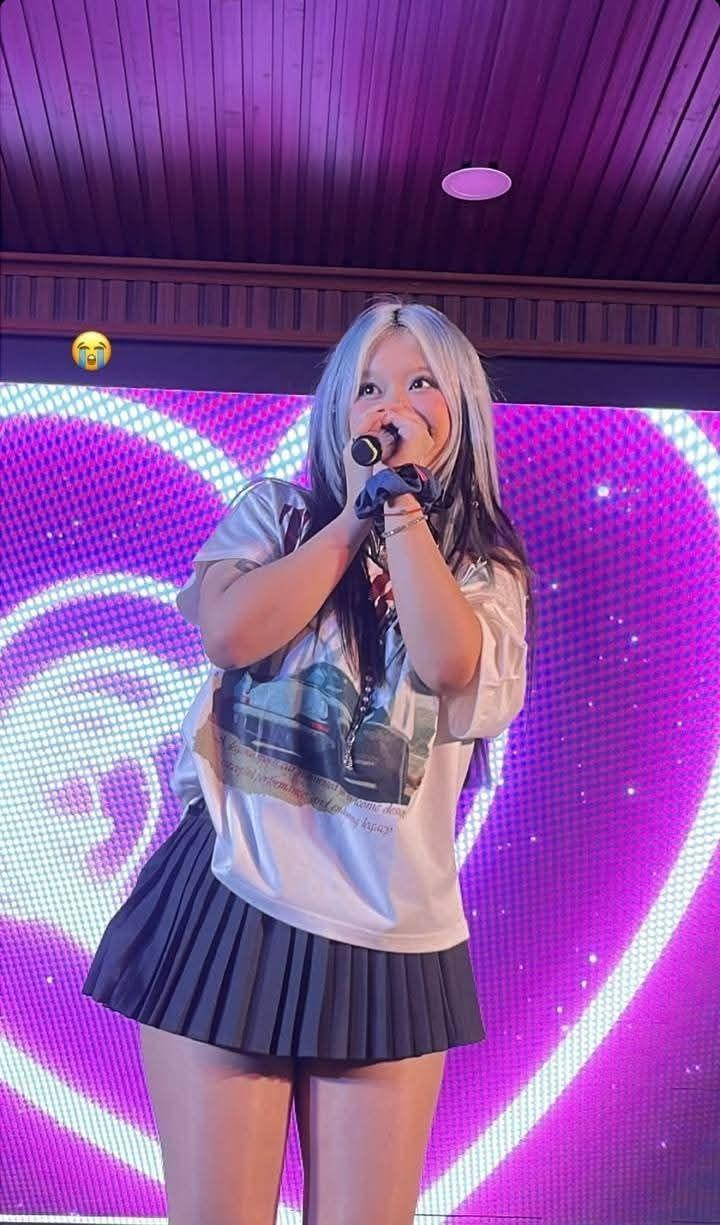non-dog: (80, 294, 534, 1225)
